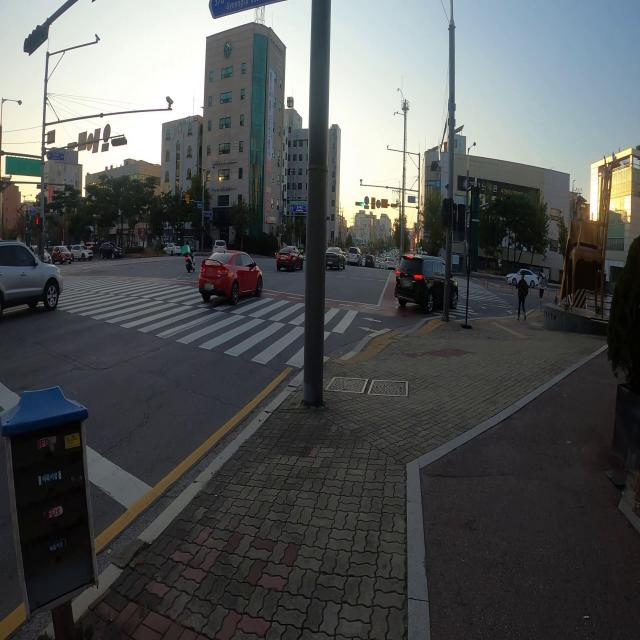crosswalk: (17, 280, 383, 369), (431, 274, 521, 318), (56, 256, 203, 273)
